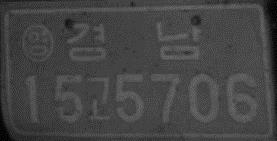0: (186, 71, 220, 125)
1: (21, 73, 43, 124)
5: (52, 72, 83, 124), (114, 72, 145, 124)
6: (224, 70, 258, 125)
7: (148, 71, 181, 124)
경남_D: (65, 19, 203, 63)
고: (83, 74, 113, 122)
영: (20, 23, 55, 65)
